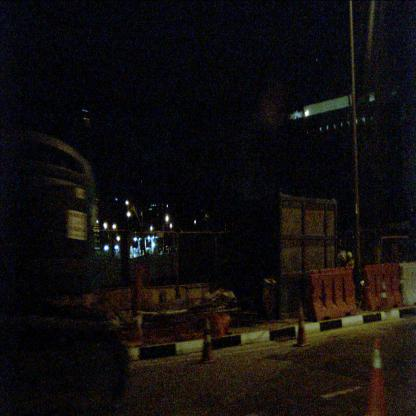human-pedestrian-adult: (336, 236, 347, 306)
movable_object-barrier: (305, 266, 357, 320), (364, 260, 402, 311), (399, 259, 415, 307)
movable_object-trafficcone: (366, 338, 387, 415), (294, 300, 311, 348), (199, 314, 214, 362)
